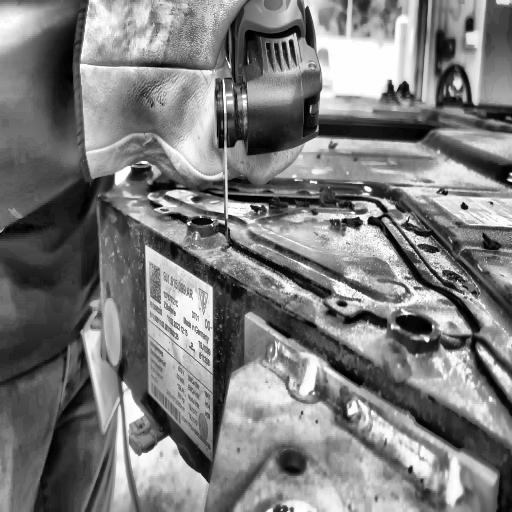b_casing: (73, 116, 511, 512)
